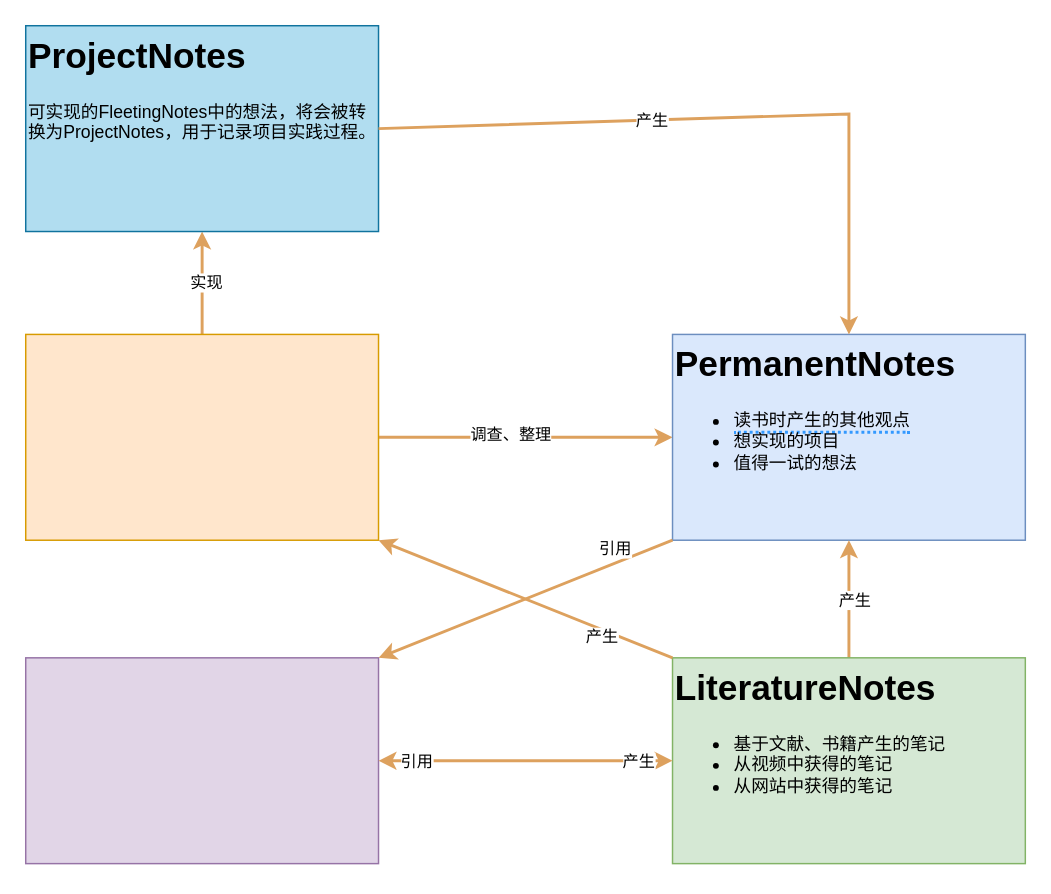
Some shapes in this 1051 by 894 pixel diagram are drawn without their labels. The shapes that lost their labels are listed below. From the top down, each one's centre as x and y in pixels, then its label:
At point (201, 436): "FleetingNotes 总的来说，就是所有一闪而过的念头： 读书时产生的其他观点 想实现的项目 值得一试的想法".
At point (201, 760): "Books 纳入系统中的书籍".
